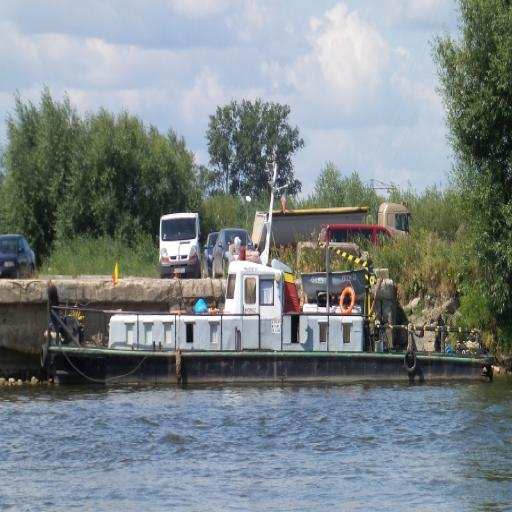tugboat: (35, 237, 498, 396)
